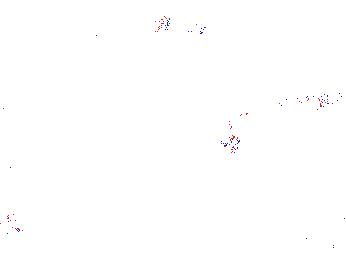glassfish: (238, 88, 338, 127)
redtail glassfish: (156, 8, 208, 39)
